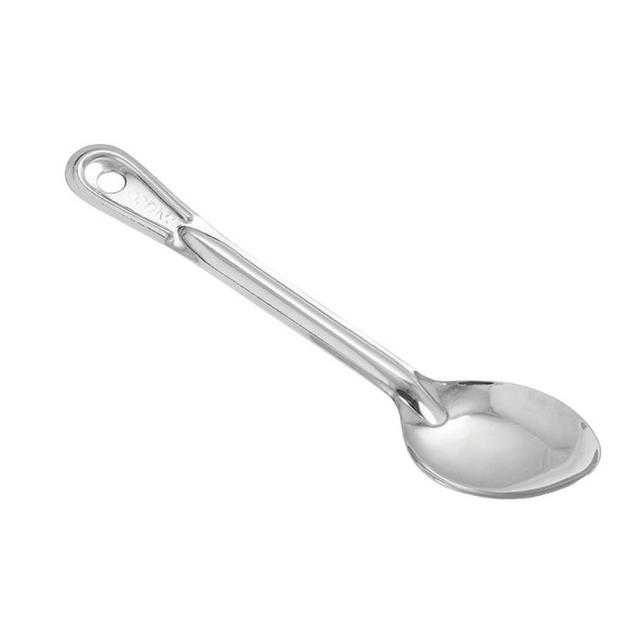spoon: (54, 131, 613, 506)
